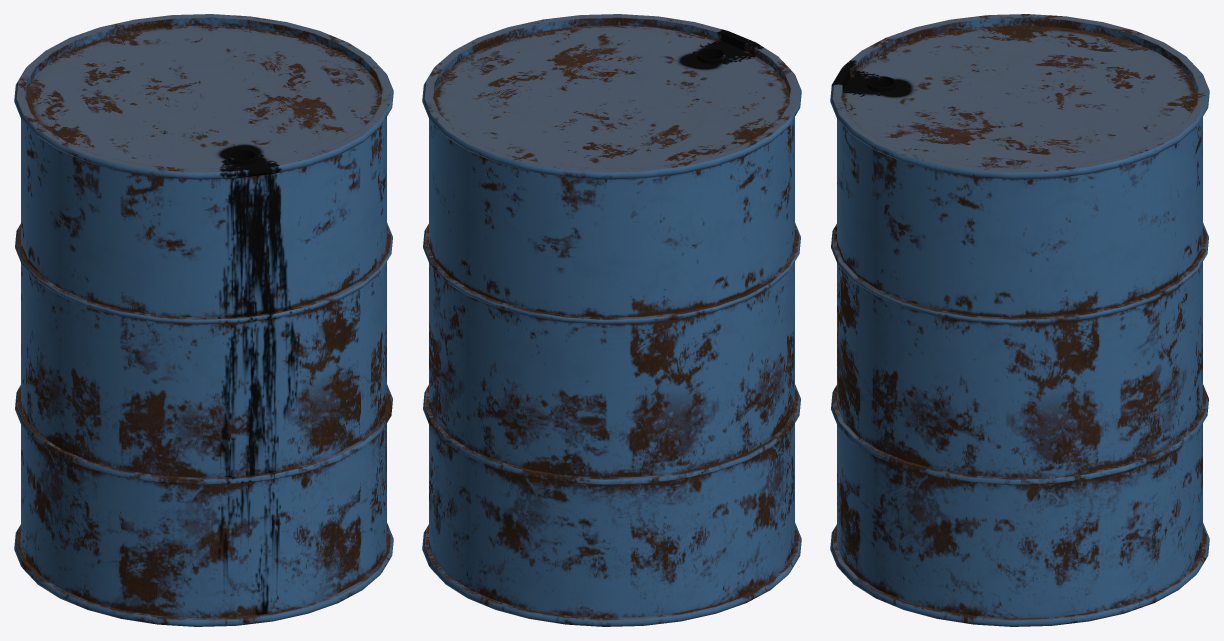
The model's file is barrel 1.fbx.
3 views of the same model, side by side, from view 1: azimuth 30°, elevation 25°; view 2: azimuth 150°, elevation 25°; view 3: azimuth 270°, elevation 25° (orthographic).
Visible parts, largest first — view 1: drum2; view 2: drum2; view 3: drum2.
Boxes of the visible parts, box(x1,y1,x2,y2) form: drum2: box(14, 14, 393, 626); drum2: box(422, 14, 801, 626); drum2: box(830, 14, 1209, 626).
Size of the model in its own units: 56.48 by 74.51 by 56.41.
1 material, 1 textured.
